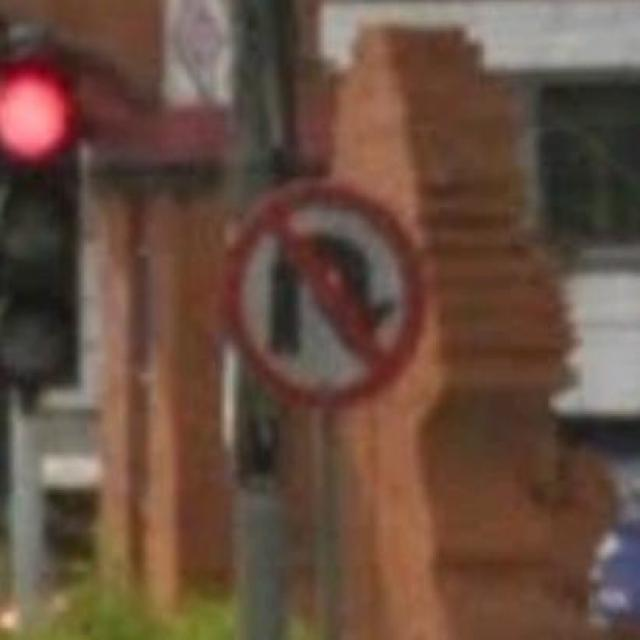traffic sign: (223, 178, 418, 408)
